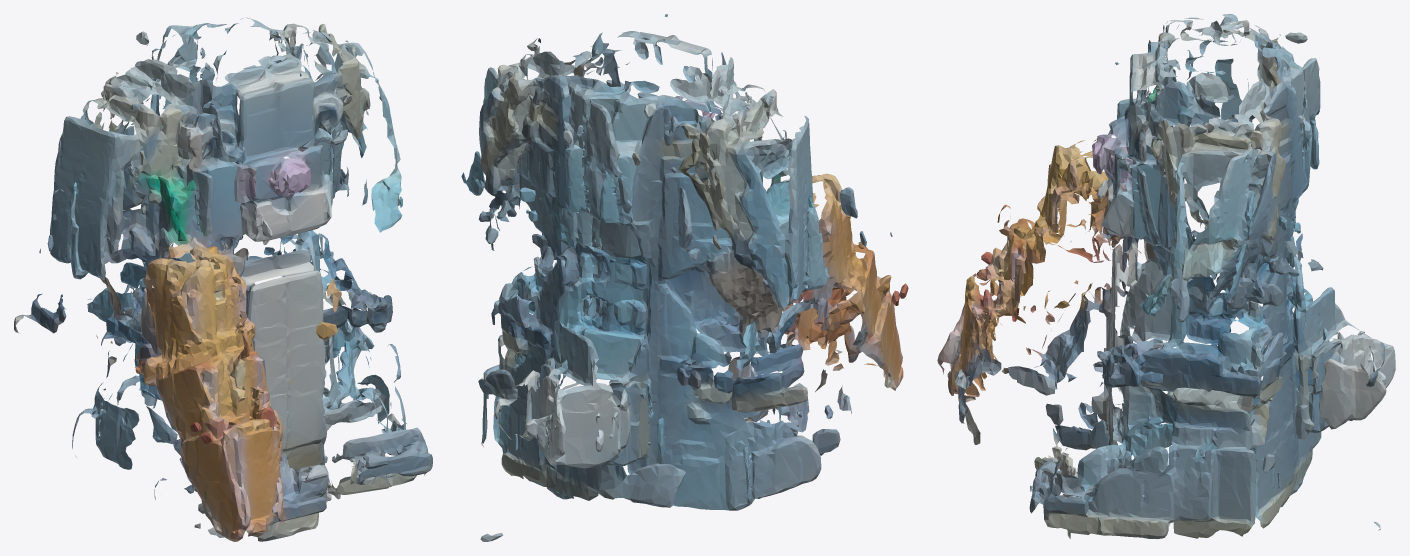
The model's file is finished_model_20260520_151331.glb.
3 views of the same model, side by side, from view 1: azimuth 30°, elevation 25°; view 2: azimuth 150°, elevation 25°; view 3: azimuth 270°, elevation 25° (orthographic). The views are drawn at different scales.
Visible parts, largest first — view 1: finished_model_20260520_151331.ply; view 2: finished_model_20260520_151331.ply; view 3: finished_model_20260520_151331.ply.
Part boxes in pixels (x1,y1,x2,y2): finished_model_20260520_151331.ply: [14, 17, 432, 541]; finished_model_20260520_151331.ply: [461, 14, 908, 541]; finished_model_20260520_151331.ply: [937, 14, 1395, 539].
Size of the model in its own units: 0.0863 by 0.092 by 0.0859.
